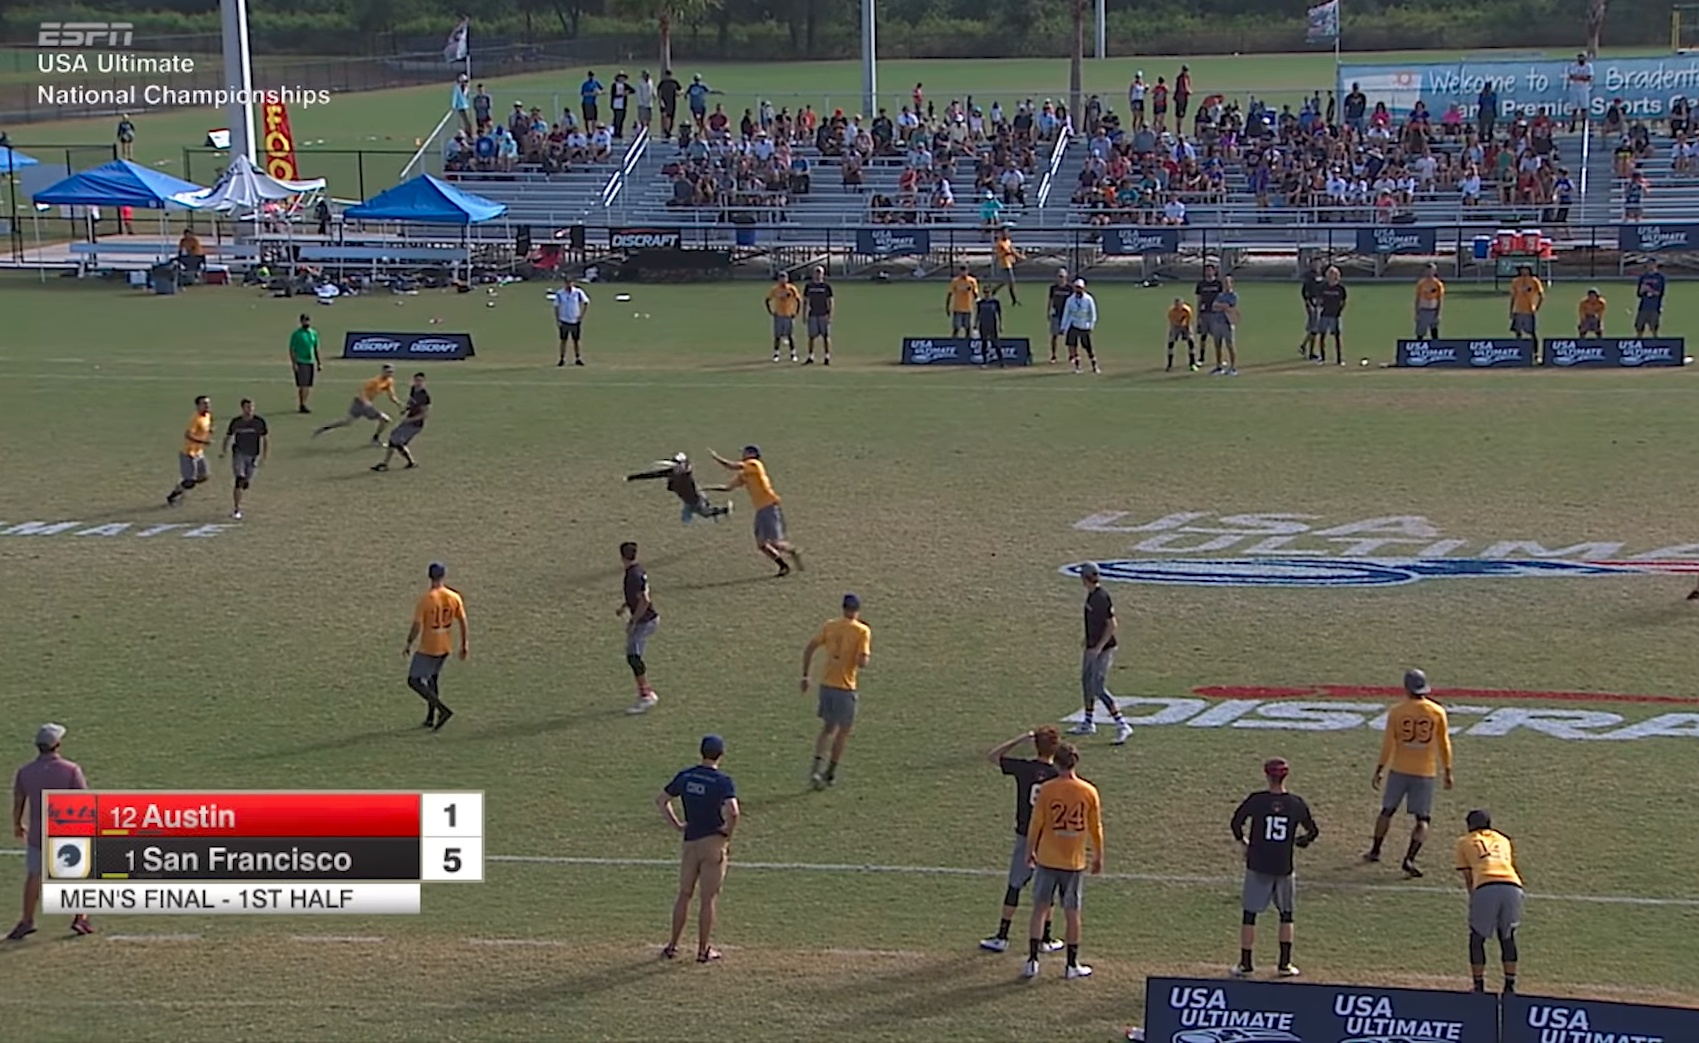frisbee: (655, 459, 680, 467)
